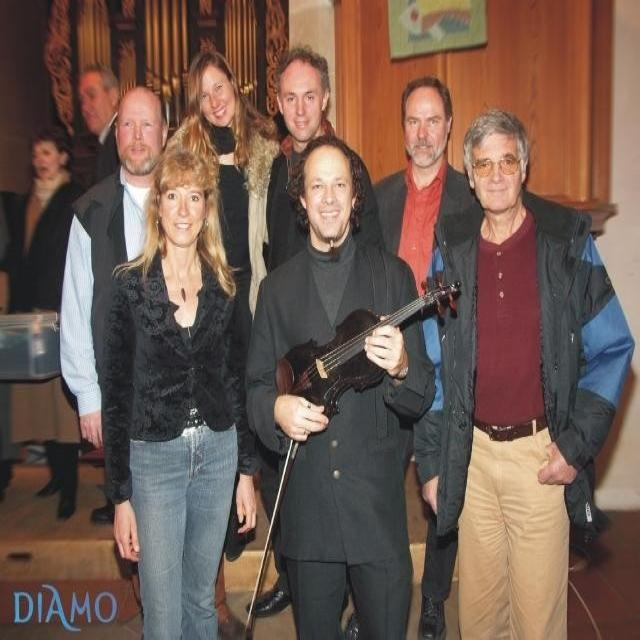violin: (276, 276, 462, 430)
